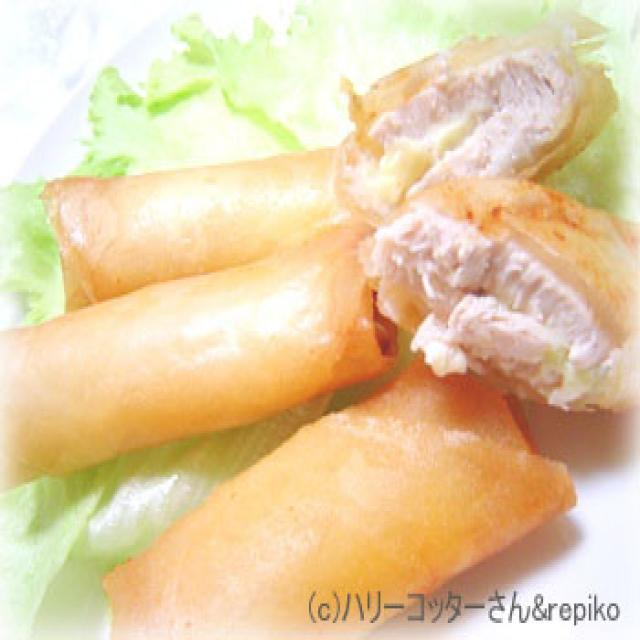鸡蛋料理: (0, 22, 640, 574)
